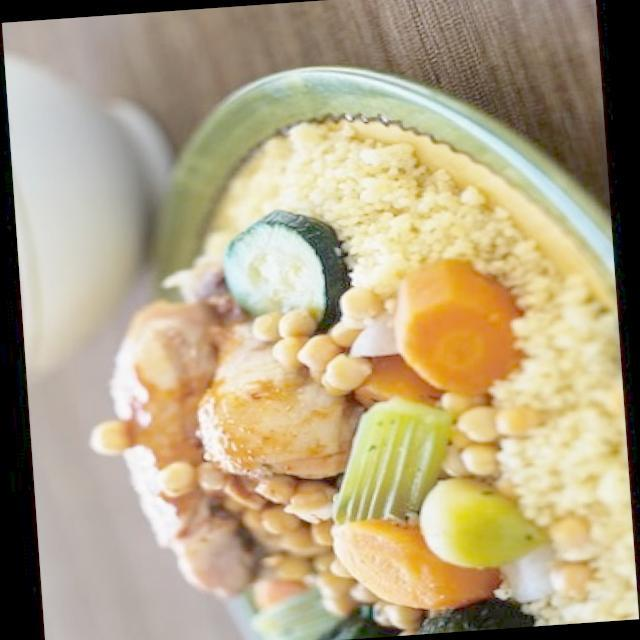Couscous: (68, 43, 640, 640)
